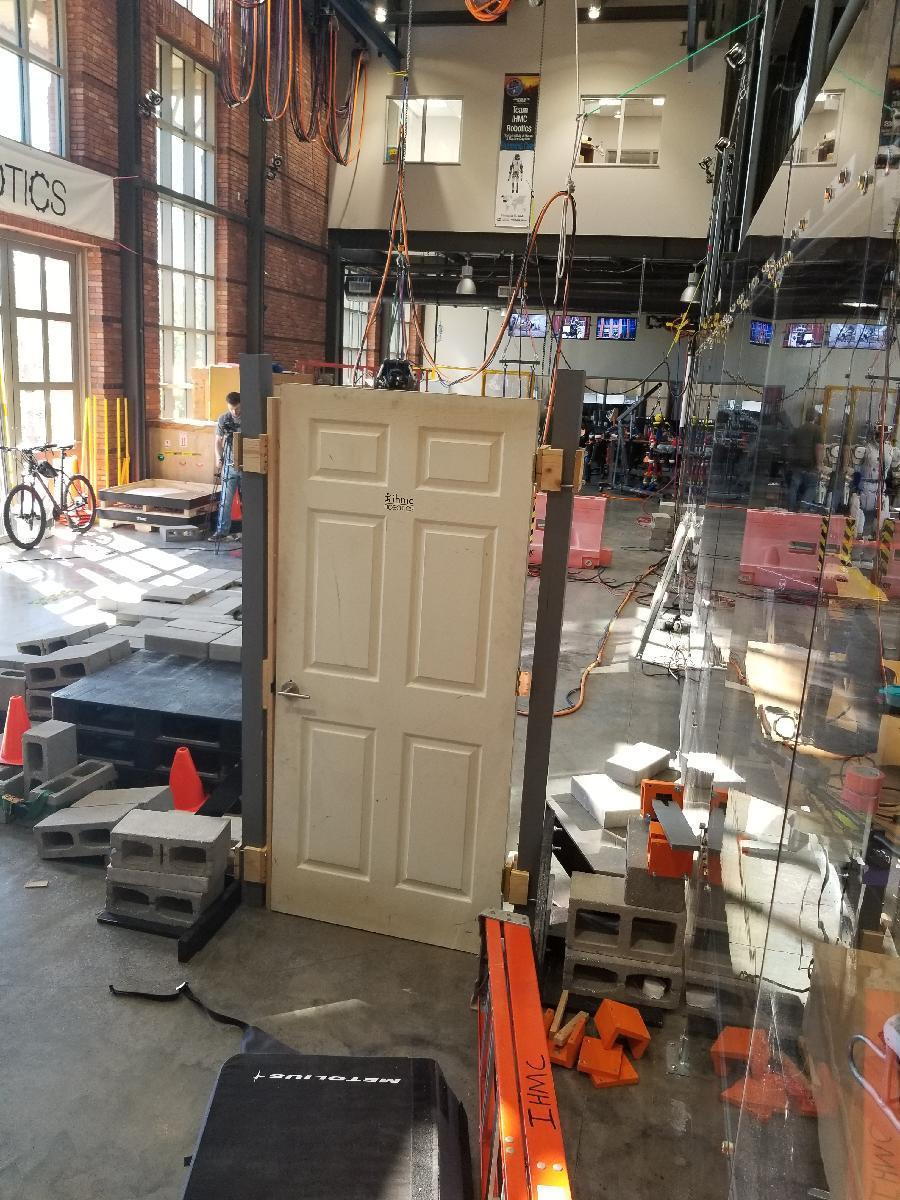door: (276, 378, 528, 953)
